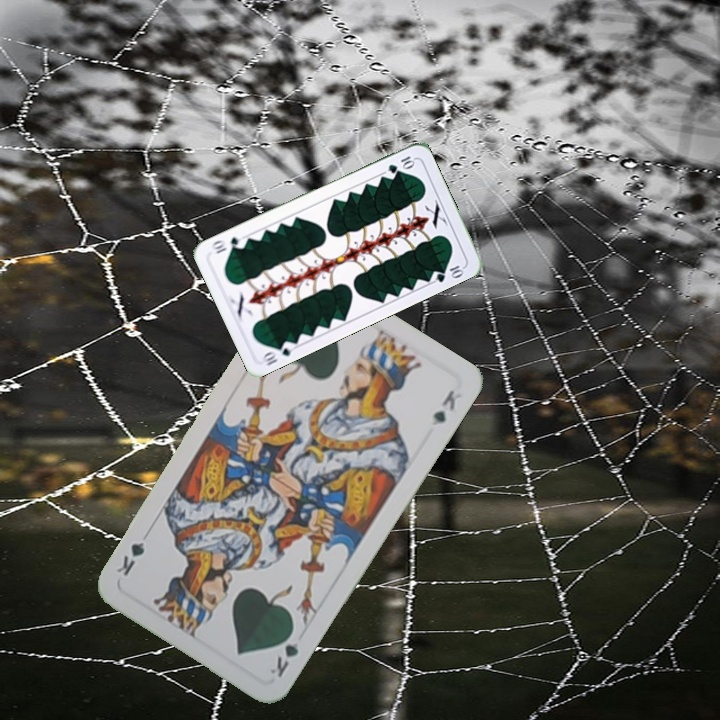G10: (259, 337, 298, 369), (384, 152, 417, 176)
GK: (266, 624, 301, 681)
